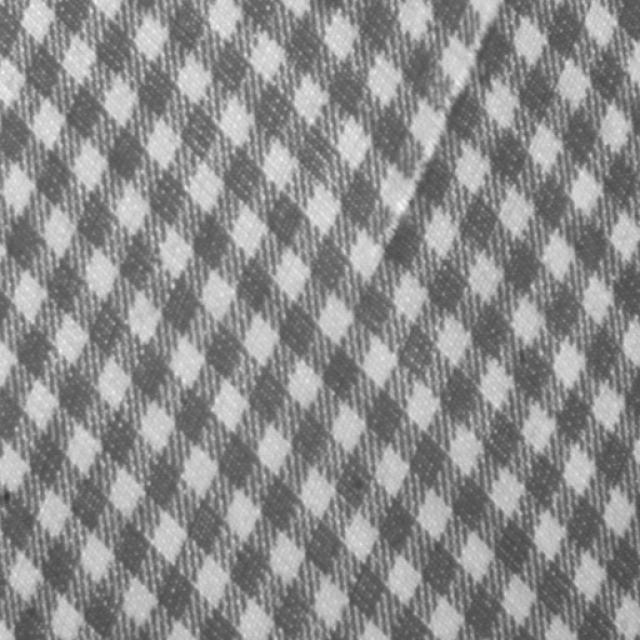Thread-Defect: (377, 8, 504, 245)
